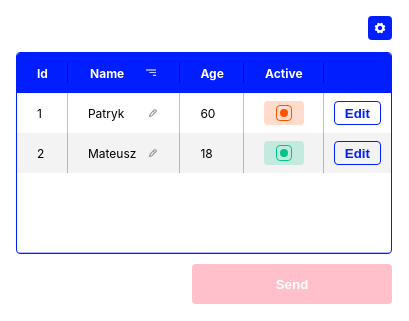
DynamicTable › allows to disable visible columns
Click the button with test id "option-button" at (380,28), box [368,16,392,40]
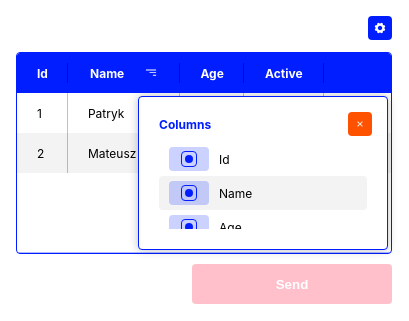
Click the checkbox with test id "name" at (189,193), box [169,181,209,205]
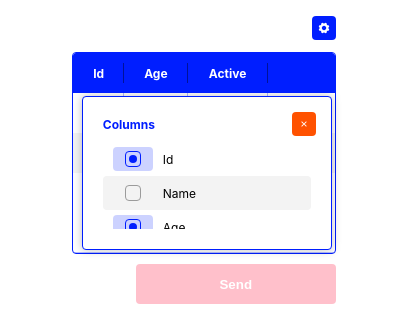
Check: the text "Patryk" is gone
